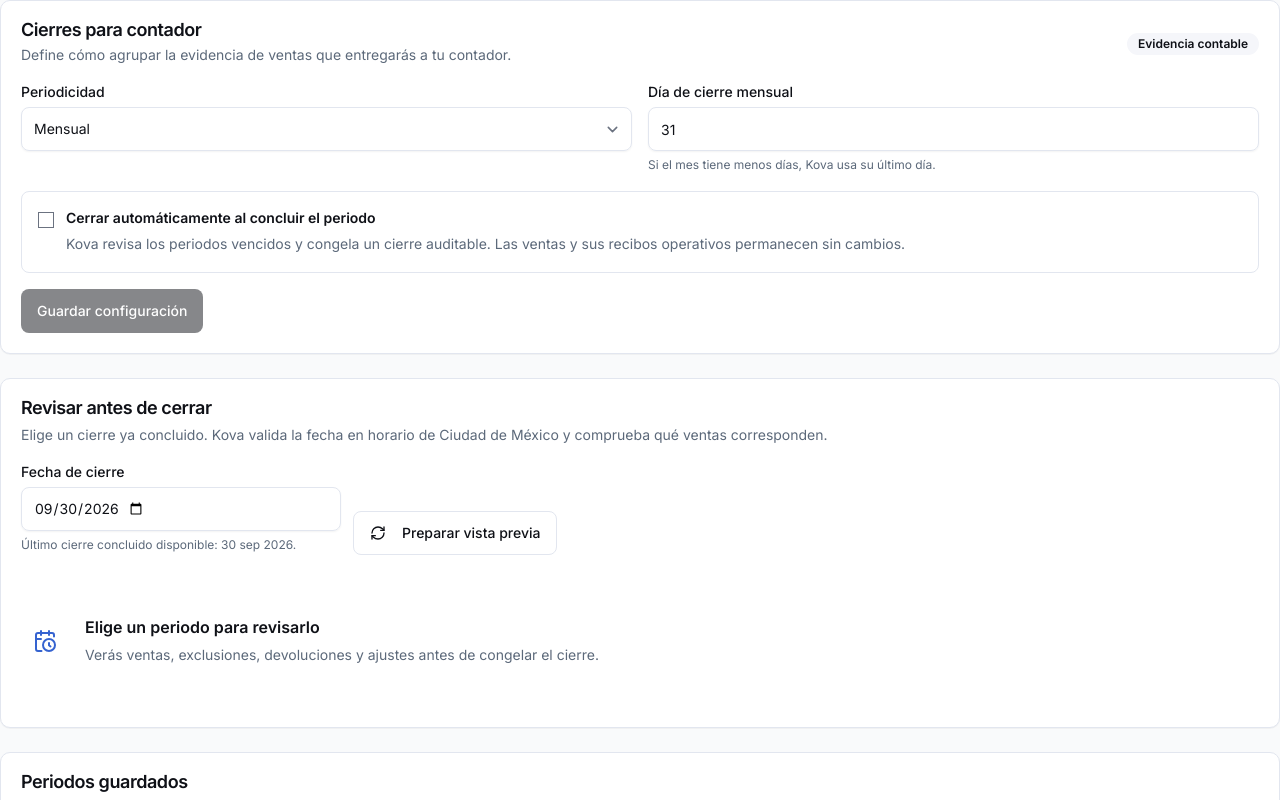
FiscalGlobalDraftsPanel › maps structured preview rejections inline and reserves toast for server failures
Type "2024-02-29" into the date field labelled "Fecha de cierre" at (181, 509), box [21, 487, 341, 531]
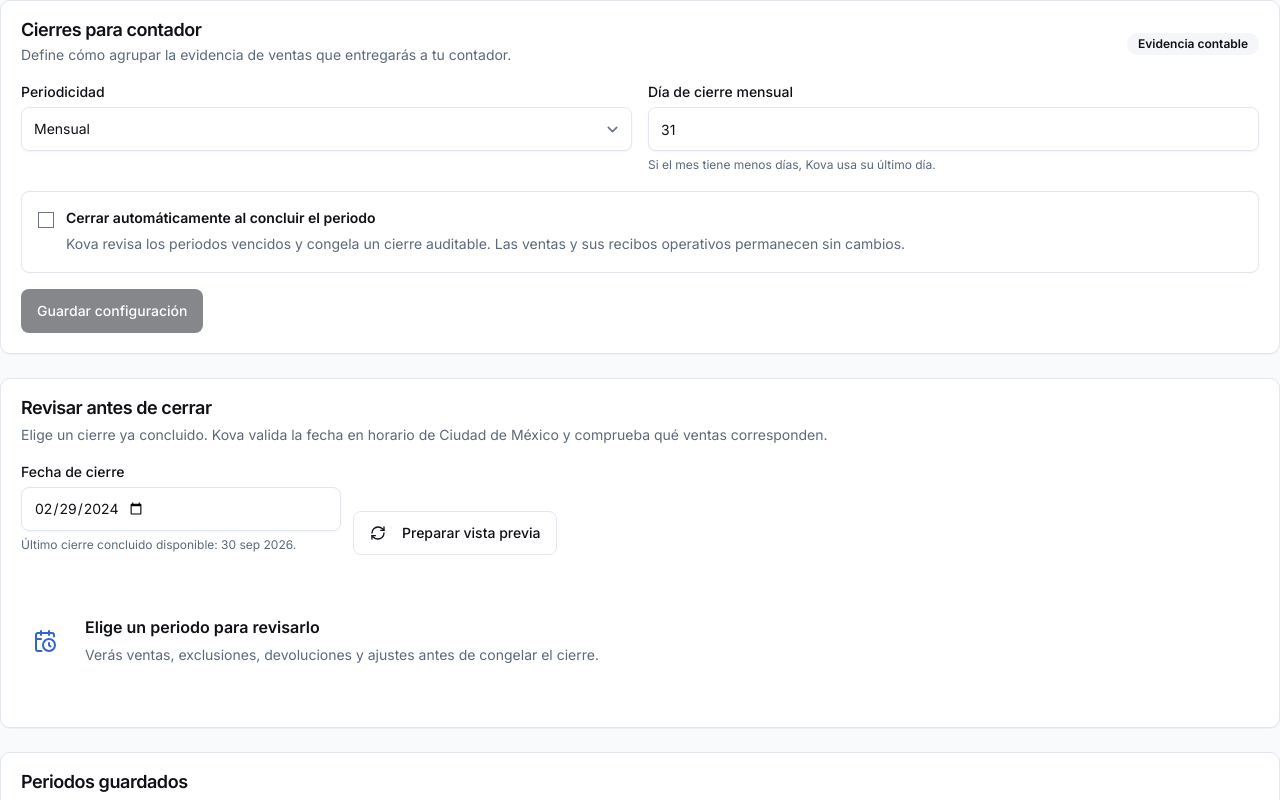
Click the button "Preparar vista previa" at (455, 533), box [353, 511, 558, 555]
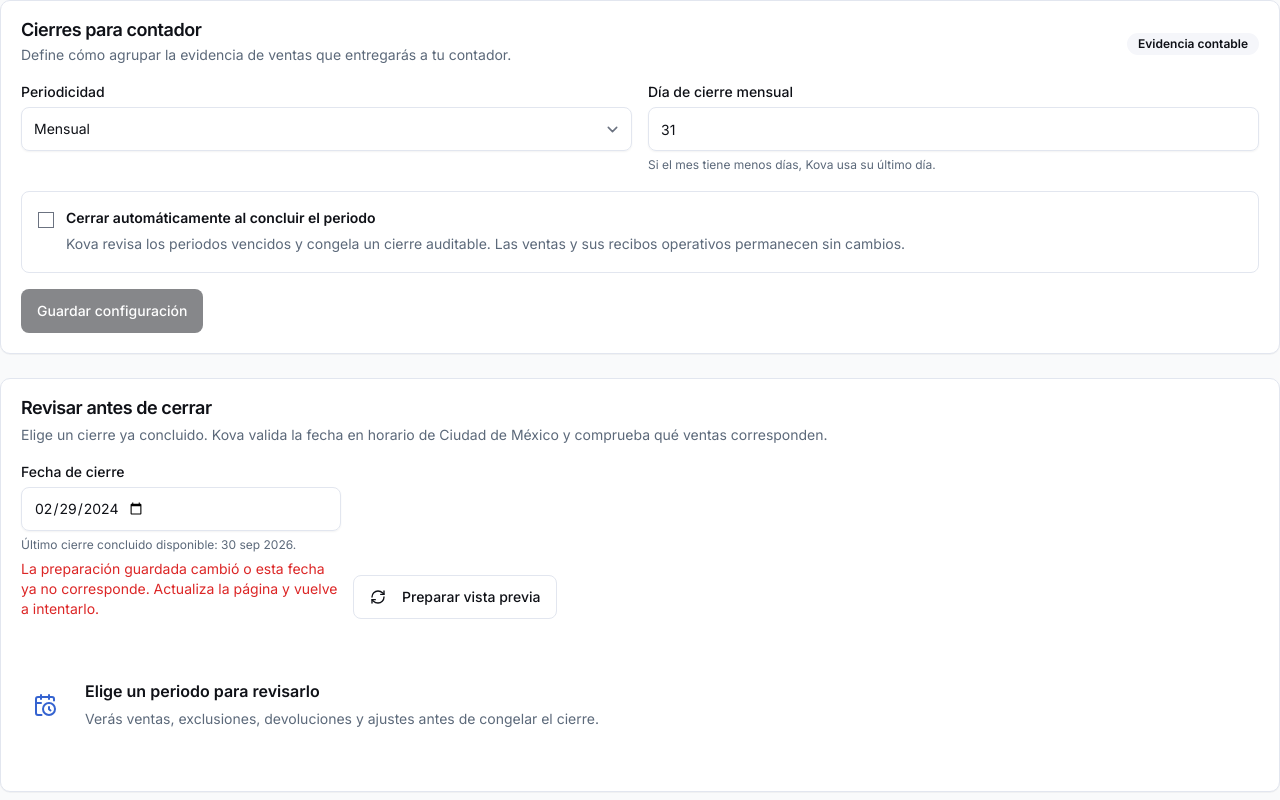
Check: the message shows "La preparación guardada cambió o esta fecha ya no corresponde. Actualiza la página y vuelve a intentarlo.", box [21, 560, 338, 617]
Click the button "Preparar vista previa" at (455, 597), box [353, 575, 558, 619]
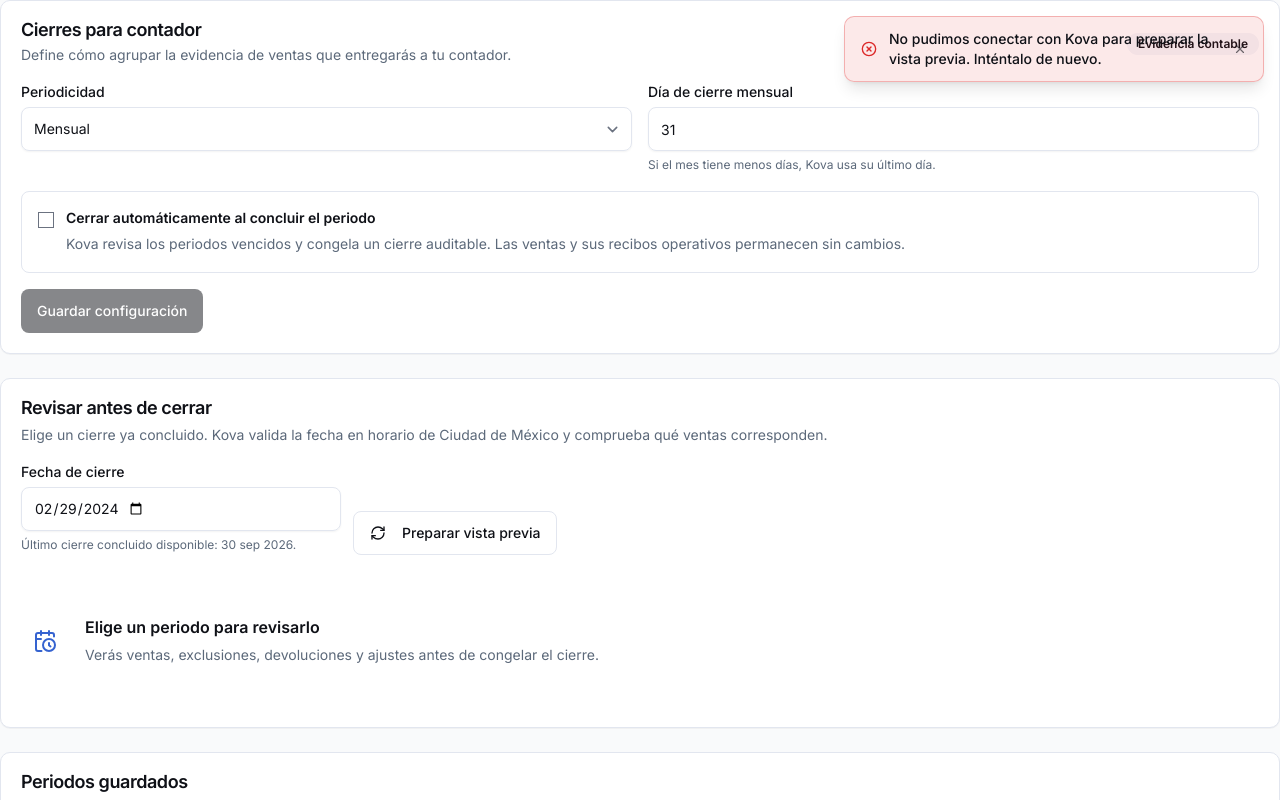
Check: the text "No pudimos conectar con Kova para preparar la vista previa. Inténtalo de nuevo." is shown, box [889, 29, 1221, 69]
